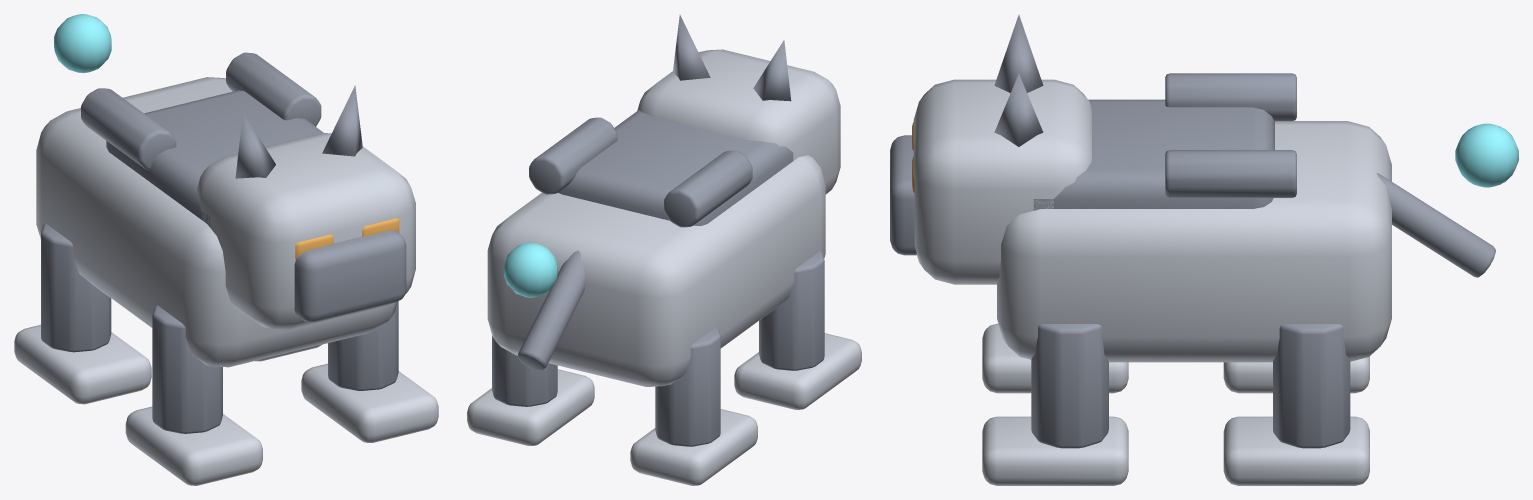
The model's file is MechBeast.fbx.
3 renders of one model, left to right at view 1: azimuth 30°, elevation 25°; view 2: azimuth 150°, elevation 25°; view 3: azimuth 270°, elevation 25°, orthographic. The views are drawn at different scales.
Parts seen in each view (by area): view 1: MechBeast_Body, MechBeast_Head, MechBeast_Armor, MechBeast_Muzzle, MechBeast_LegFL, MechBeast_LegBL, MechBeast_PawFL, MechBeast_PawBL, MechBeast_PawFR, MechBeast_CannonL, MechBeast_LegFR, MechBeast_CannonR (+3 smaller); view 2: MechBeast_Body, MechBeast_Head, MechBeast_Armor, MechBeast_LegBL, MechBeast_LegFL, MechBeast_PawBL, MechBeast_PawFL, MechBeast_PawBR, MechBeast_CannonL, MechBeast_Tail, MechBeast_CannonR, MechBeast_LegBR (+3 smaller); view 3: MechBeast_Body, MechBeast_Head, MechBeast_Armor, MechBeast_LegFR, MechBeast_LegBR, MechBeast_PawBR, MechBeast_PawFR, MechBeast_CannonR, MechBeast_CannonL, MechBeast_Tail, MechBeast_TailTip, MechBeast_PawFL (+4 smaller).
Boxes of the visible parts, x1,y1,x2,y2 form: MechBeast_Body: (36,77,397,367); MechBeast_Head: (197,133,415,329); MechBeast_Armor: (106,90,323,226); MechBeast_Muzzle: (294,230,406,322); MechBeast_LegFL: (152,305,222,433); MechBeast_LegBL: (41,223,111,352); MechBeast_PawFL: (125,406,262,485); MechBeast_PawBL: (14,325,151,404); MechBeast_PawFR: (301,363,438,442); MechBeast_CannonL: (81,88,176,170); MechBeast_LegFR: (328,301,398,390); MechBeast_CannonR: (226,52,321,126); MechBeast_Body: (487,155,825,386); MechBeast_Head: (637,49,840,194); MechBeast_Armor: (558,110,793,225); MechBeast_LegBL: (655,327,720,446); MechBeast_LegFL: (759,251,824,370); MechBeast_PawBL: (630,409,757,485); MechBeast_PawFL: (734,333,861,409); MechBeast_PawBR: (467,369,594,445); MechBeast_CannonL: (664,150,752,227); MechBeast_Tail: (517,250,585,370); MechBeast_CannonR: (529,117,617,194); MechBeast_LegBR: (492,336,557,406); MechBeast_Body: (997,121,1391,362); MechBeast_Head: (913,79,1091,284); MechBeast_Armor: (1033,99,1274,210); MechBeast_LegFR: (1031,324,1108,448); MechBeast_LegBR: (1273,324,1350,448); MechBeast_PawBR: (1223,416,1369,485); MechBeast_PawFR: (982,416,1128,485); MechBeast_CannonR: (1165,150,1296,197); MechBeast_CannonL: (1165,73,1296,121); MechBeast_Tail: (1376,173,1495,277); MechBeast_TailTip: (1455,123,1518,187); MechBeast_PawFL: (982,323,1128,393).
Bounding box in the file's own units: 218 × 286 × 430.
